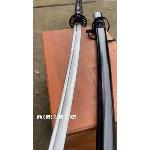Pedang: (46, 0, 90, 150)
